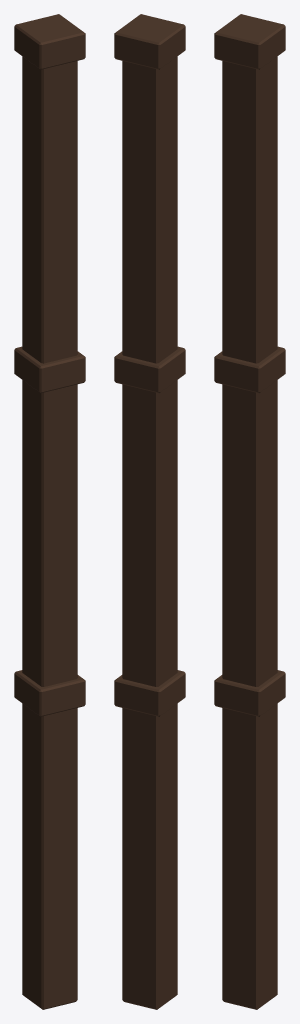
Rendered from corner_timber_h36.fbx.
The picture shows the model from 3 angles, left to right: view 1: azimuth 30°, elevation 25°; view 2: azimuth 150°, elevation 25°; view 3: azimuth 330°, elevation 25°; orthographic projection.
Parts seen in each view (by area): view 1: corner_timber_h36; view 2: corner_timber_h36; view 3: corner_timber_h36.
Part boxes in pixels (box(x1,y1,x2,y2)): corner_timber_h36: box(14, 14, 85, 1009); corner_timber_h36: box(114, 14, 185, 1009); corner_timber_h36: box(214, 14, 285, 1009).
Bounding box in the file's own units: 180 × 3600 × 180.
